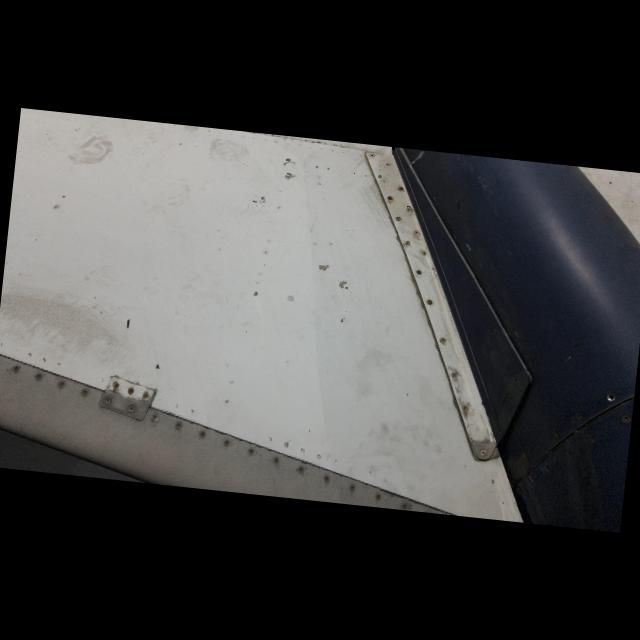Missing Fastener: (603, 390, 618, 404)
